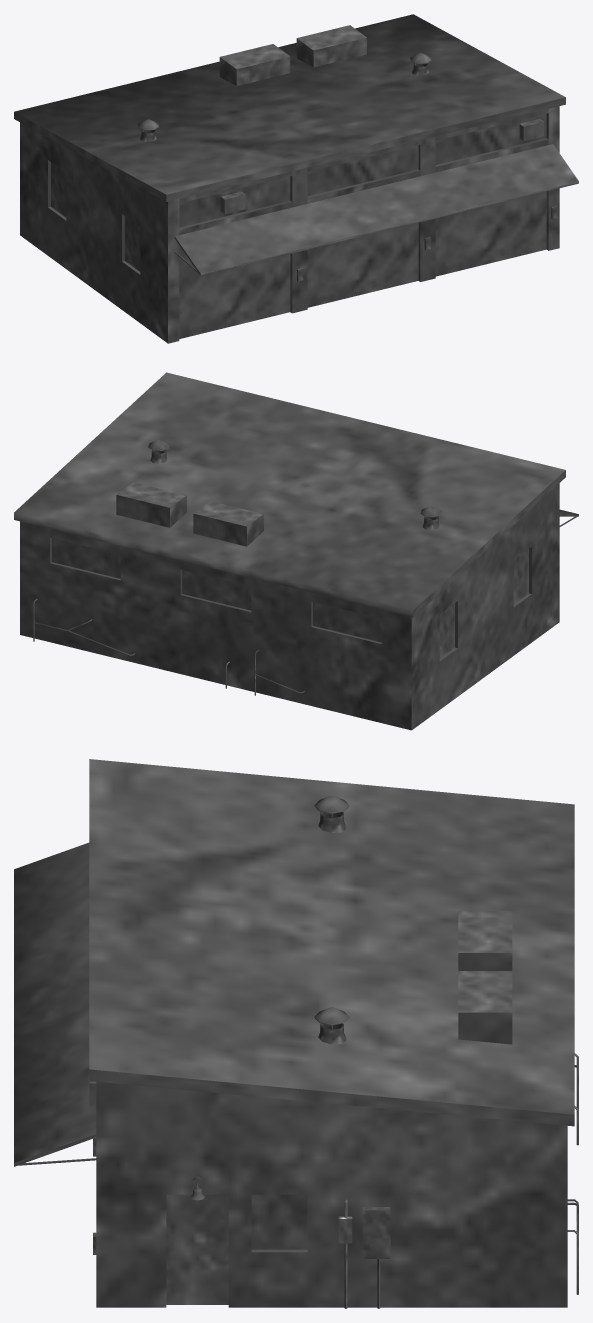
The picture shows the model from 3 angles, top to bottom: view 1: azimuth 30°, elevation 25°; view 2: azimuth 150°, elevation 25°; view 3: azimuth 270°, elevation 25°; orthographic projection. The views are drawn at different scales.
Visible parts, largest first — view 1: PSX Old Warehouse; view 2: PSX Old Warehouse; view 3: PSX Old Warehouse.
Boxes of the visible parts, x1,y1,x2,y2 form: PSX Old Warehouse: (14,14,578,343); PSX Old Warehouse: (14,372,578,730); PSX Old Warehouse: (14,759,578,1308).
Bounding box in the file's own units: 6.32 × 2.34 × 4.79.
